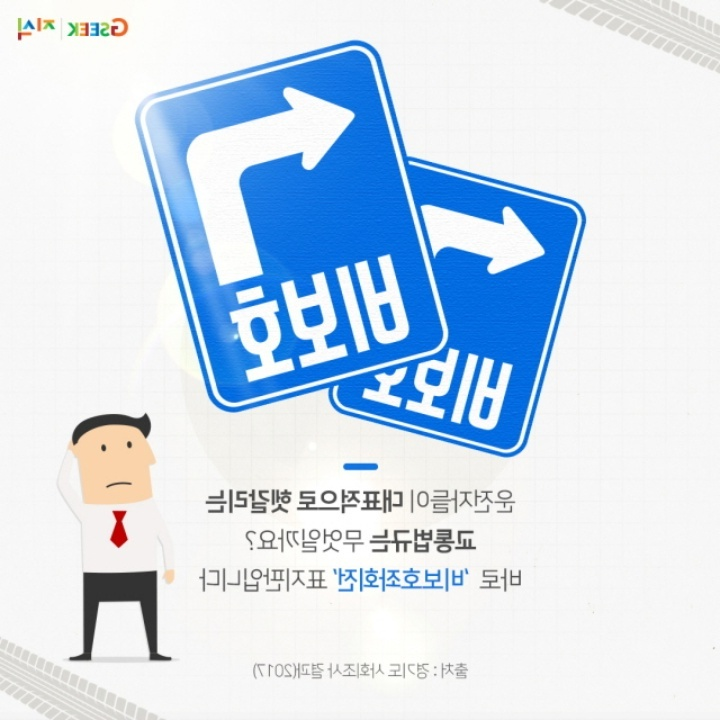right: (177, 74, 361, 289)
